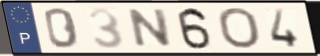0: (43, 6, 80, 50)
3: (87, 6, 125, 50)
4: (267, 7, 303, 50)
6: (175, 6, 213, 51)
N: (127, 7, 174, 49)
O: (216, 6, 263, 50)
